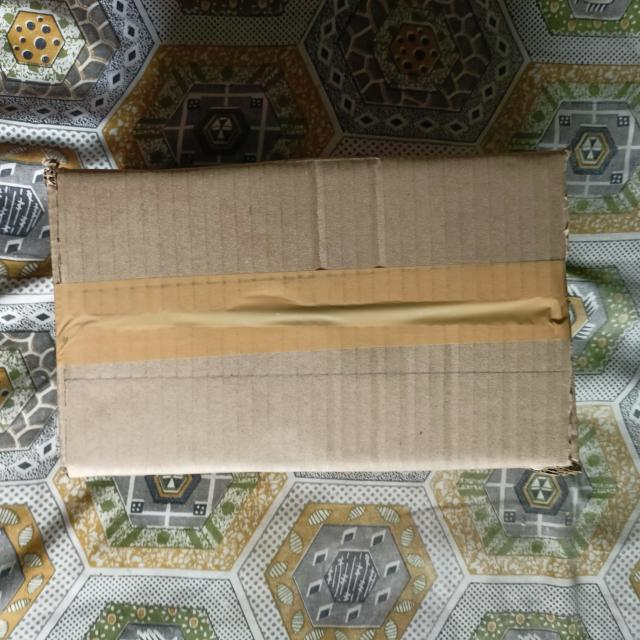box: (53, 152, 581, 476)
